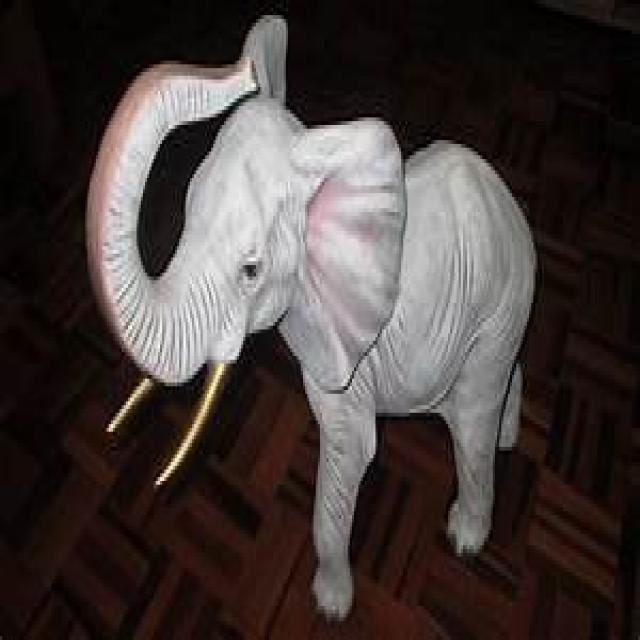elephant: (85, 15, 540, 629)
